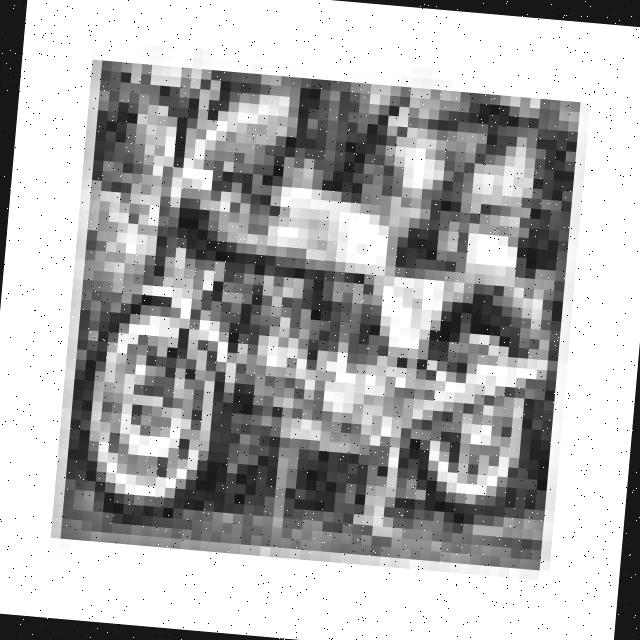mopeds: (44, 89, 582, 562)
